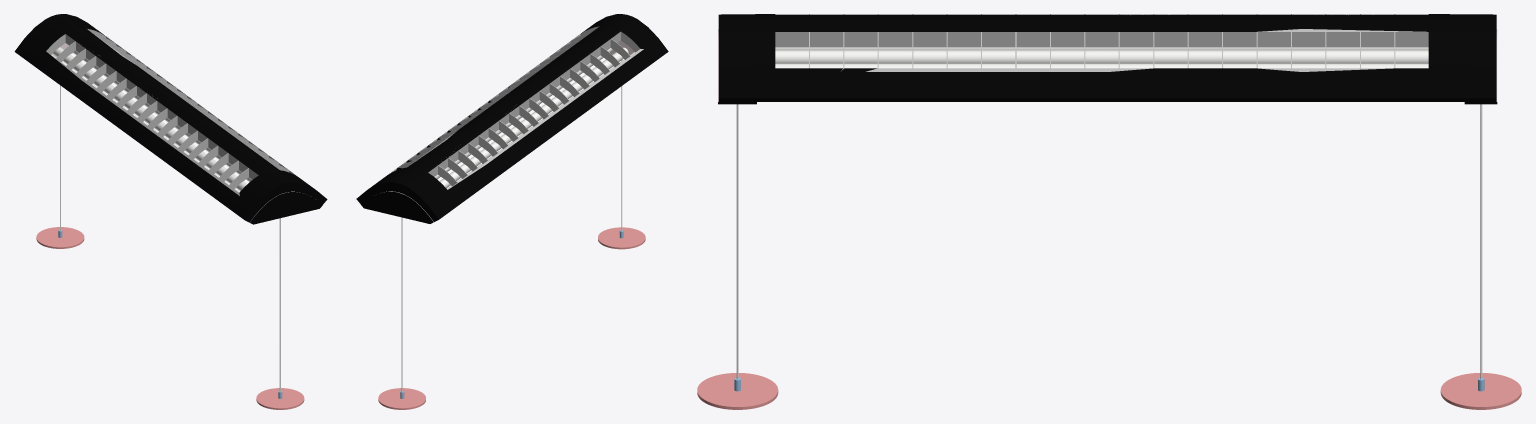
The model's file is two_pole.fbx.
3 renders of one model, left to right at view 1: azimuth 30°, elevation 25°; view 2: azimuth 150°, elevation 25°; view 3: azimuth 270°, elevation 25°, orthographic. The views are drawn at different scales.
Parts seen in each view (by area): view 1: Body1, Body3, Body3.001; view 2: Body1, Body3.001, Body3; view 3: Body1, Body3, Body3.001.
Boxes of the visible parts, box(x1,y1,x2,y2) form: Body1: box(14, 14, 327, 224); Body3: box(256, 218, 304, 409); Body3.001: box(36, 85, 84, 248); Body1: box(356, 14, 668, 223); Body3.001: box(378, 217, 425, 409); Body3: box(598, 60, 645, 249); Body1: box(718, 14, 1497, 104); Body3: box(697, 104, 778, 409); Body3.001: box(1440, 104, 1521, 409).
Size of the model in its own units: 25.4 by 64.5 by 129.
